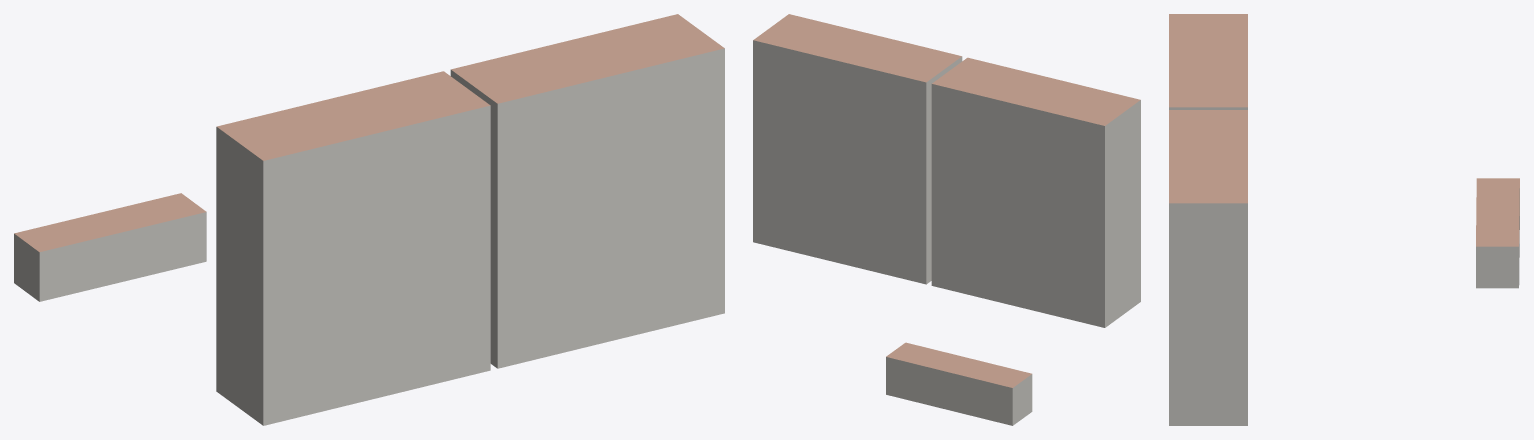
The model's file is gridID_13.dae.
3 renders of one model, left to right at view 1: azimuth 30°, elevation 25°; view 2: azimuth 150°, elevation 25°; view 3: azimuth 270°, elevation 25°, orthographic. The views are drawn at different scales.
Parts seen in each view (by area): view 1: model_gridID_13_w389371674, model_gridID_13_w389371674_001, model_gridID_13_w390045135; view 2: model_gridID_13_w389371674, model_gridID_13_w389371674_001, model_gridID_13_w390045135; view 3: model_gridID_13_w389371674_001, model_gridID_13_w389371674, model_gridID_13_w390045135.
Boxes of the visible parts, <box> form: model_gridID_13_w389371674: <box>216,71,490,425</box>; model_gridID_13_w389371674_001: <box>450,14,724,368</box>; model_gridID_13_w390045135: <box>14,193,206,301</box>; model_gridID_13_w389371674: <box>931,57,1140,327</box>; model_gridID_13_w389371674_001: <box>753,14,962,284</box>; model_gridID_13_w390045135: <box>886,342,1032,425</box>; model_gridID_13_w389371674_001: <box>1169,110,1247,425</box>; model_gridID_13_w389371674: <box>1169,14,1247,109</box>; model_gridID_13_w390045135: <box>1476,178,1519,288</box>.
Bounding box in the file's own units: 79.36 × 57.12 × 40.
